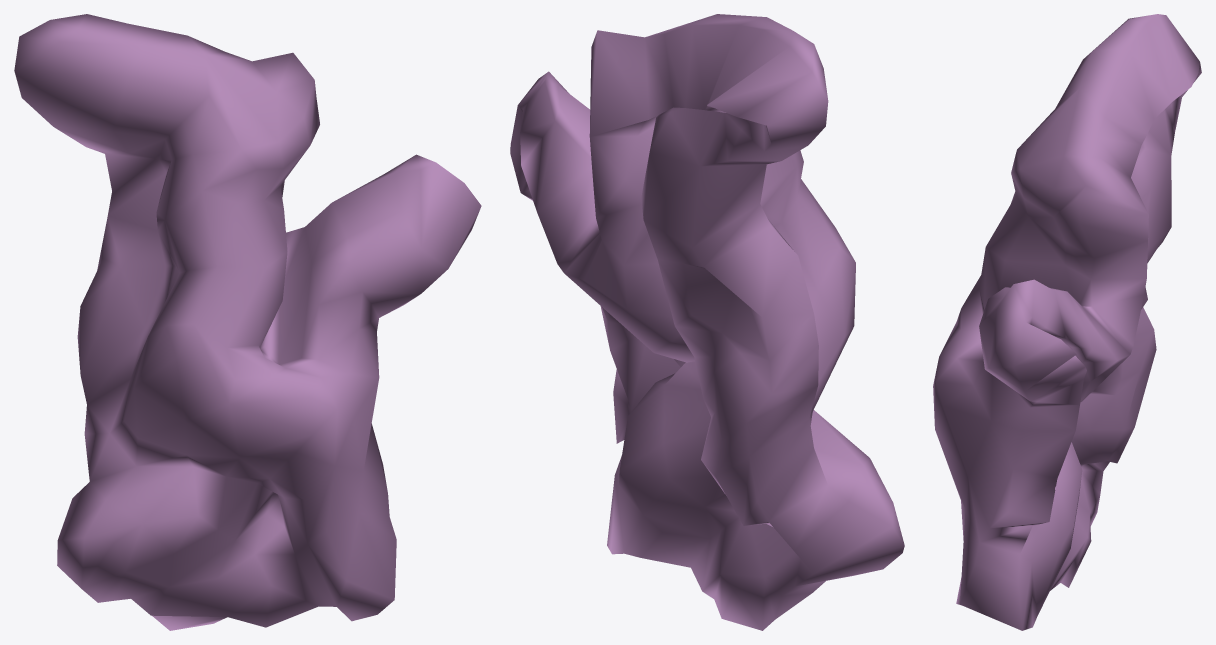
3 views of the same model, side by side, from view 1: azimuth 30°, elevation 25°; view 2: azimuth 150°, elevation 25°; view 3: azimuth 270°, elevation 25° (orthographic). The views are drawn at different scales.
Visible parts, largest first — view 1: 左侧眶沟（H形眶沟）; view 2: 左侧眶沟（H形眶沟）; view 3: 左侧眶沟（H形眶沟）.
Boxes of the visible parts, x1,y1,x2,y2 form: 左侧眶沟（H形眶沟）: [14, 14, 481, 630]; 左侧眶沟（H形眶沟）: [510, 14, 904, 630]; 左侧眶沟（H形眶沟）: [933, 14, 1201, 630].
Bounding box in the file's own units: 0.0419 × 0.0612 × 0.0282.
